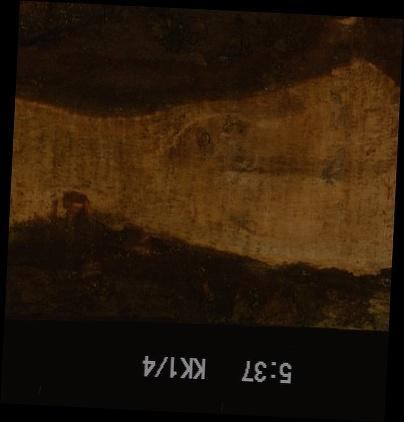dry_knot: (199, 130, 211, 147)
wave: (6, 196, 390, 330), (16, 8, 400, 123)
